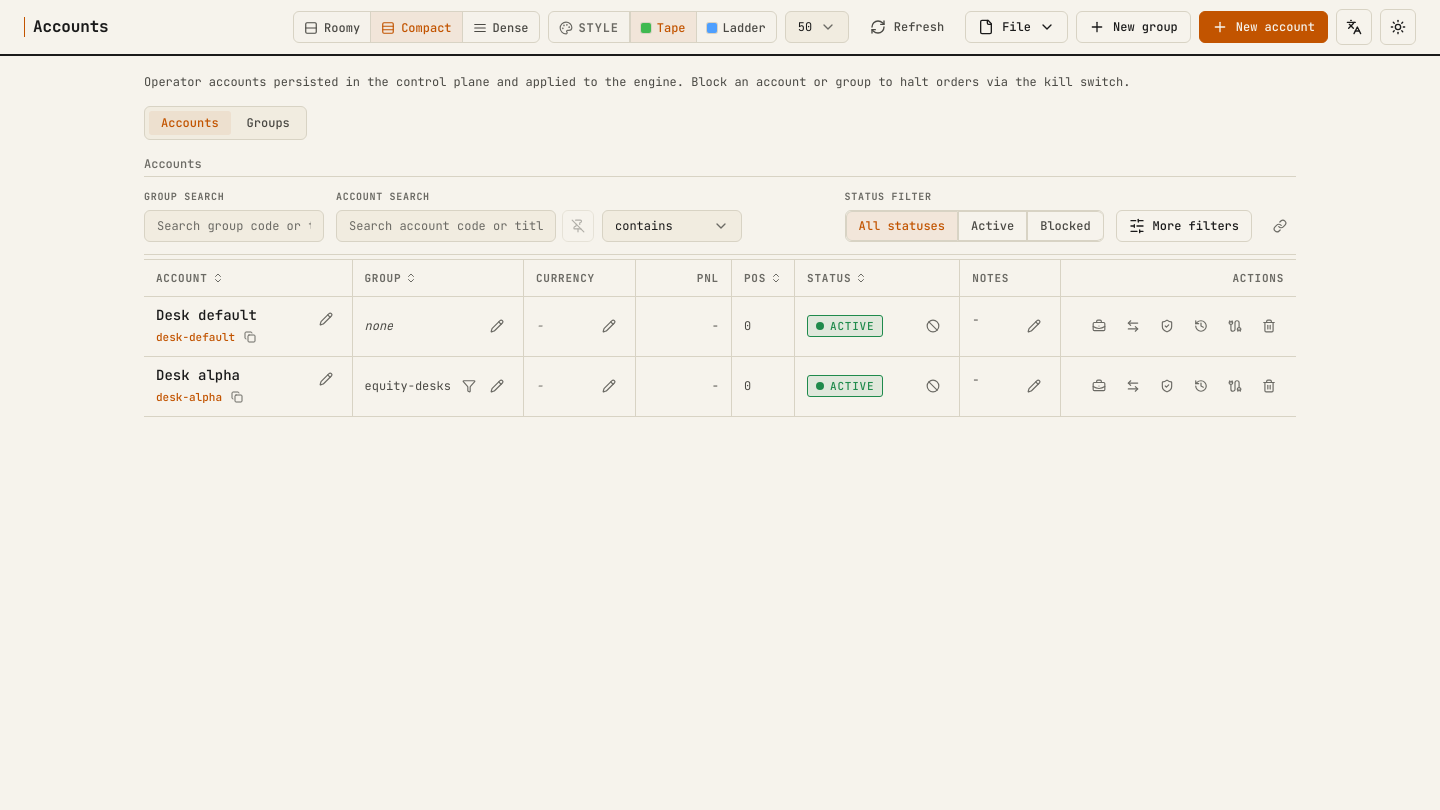
it: DeleteAccountConfirm › says trading connections are unknown while trading is loading
Click the button named "Delete desk-alpha" at (1269, 386), box [1254,371,1284,401]
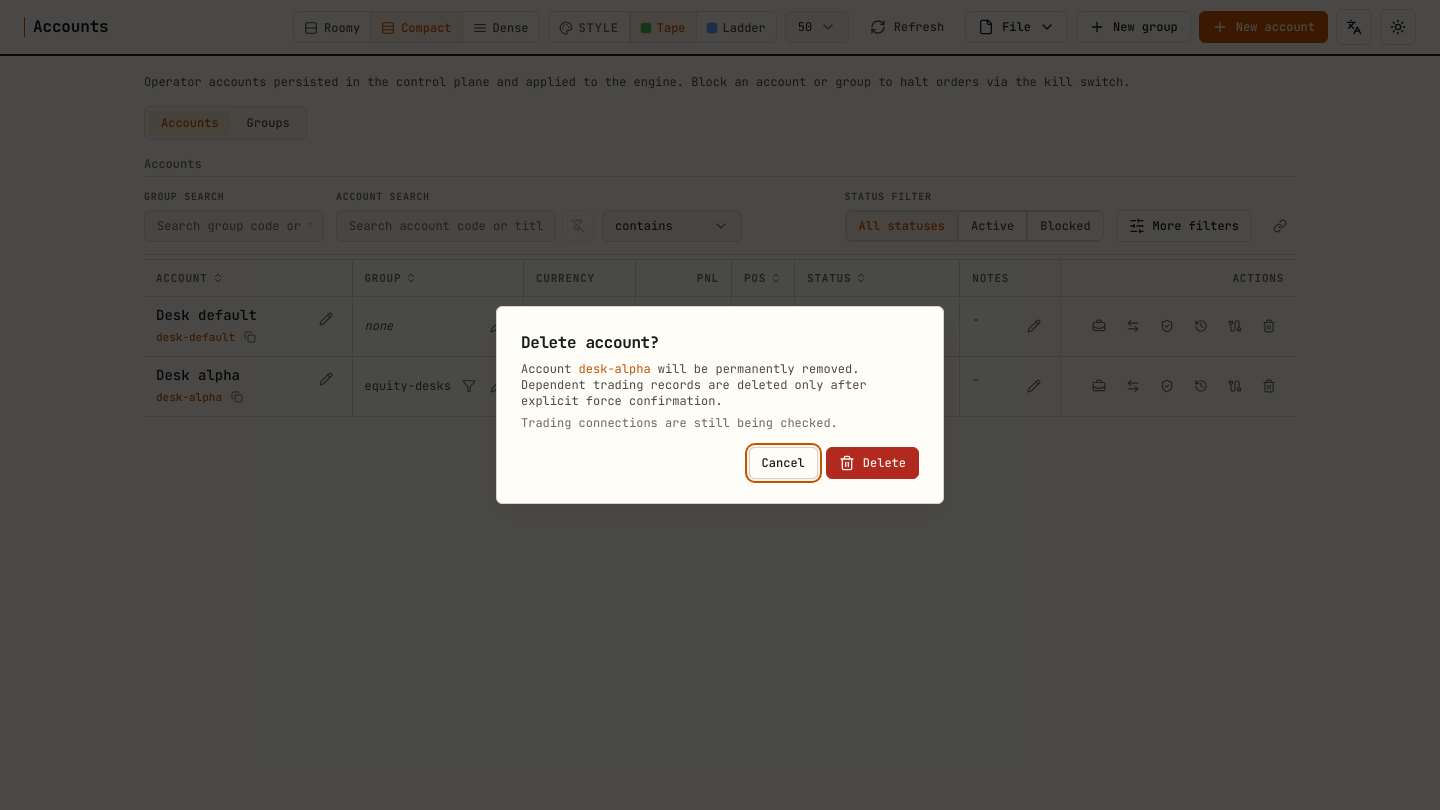
Expected: the text "Trading connections are still being checked." is shown, [521,415,838,431]
Expected: the button "Delete" is enabled, [826,447,919,479]
